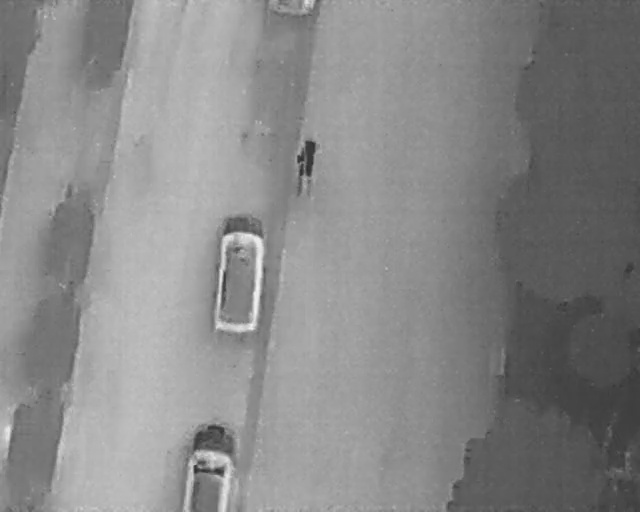Car: (208, 211, 267, 333), (179, 422, 239, 510), (266, 0, 318, 18)
